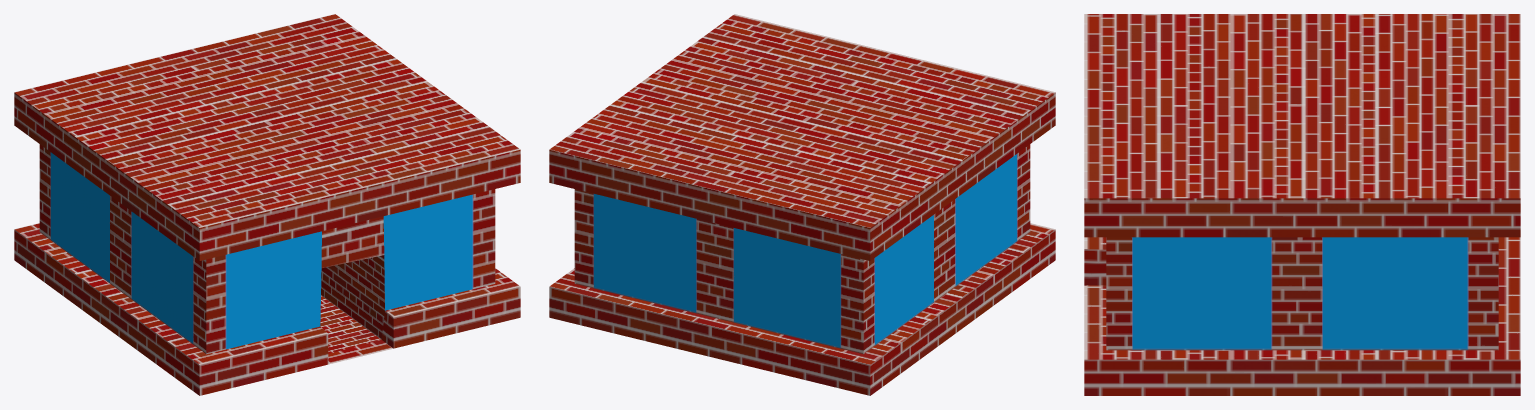
File: spawnBottom.fbx
3 renders of one model, left to right at view 1: azimuth 30°, elevation 25°; view 2: azimuth 150°, elevation 25°; view 3: azimuth 270°, elevation 25°, orthographic. The views are drawn at different scales.
Parts seen in each view (by area): view 1: SpawnBottom; view 2: SpawnBottom; view 3: SpawnBottom.
Boxes of the visible parts, left/top/right/bottom form: SpawnBottom: left=14, top=14, right=520, bottom=395; SpawnBottom: left=549, top=14, right=1055, bottom=395; SpawnBottom: left=1084, top=14, right=1520, bottom=395.
Size of the model in its own units: 20 by 10 by 20.
Materials: 2 (2 with a texture image).
